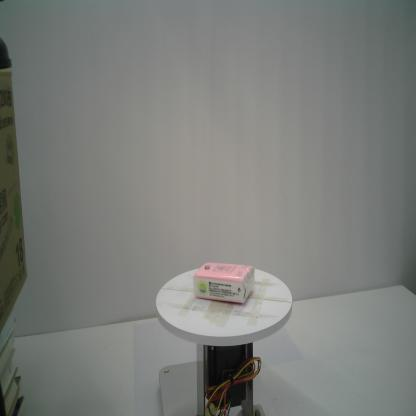Tissue: (192, 259, 256, 306)
